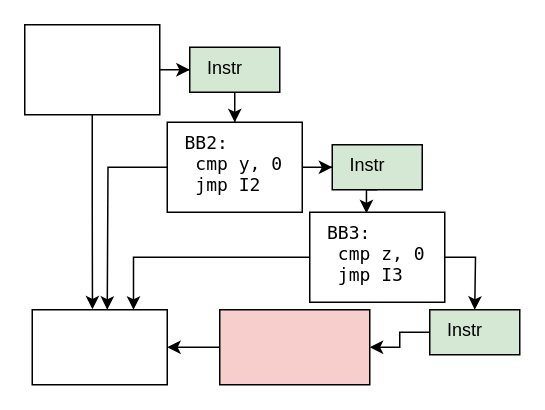
This 545x410 diagram has some shape labels left out. Here are the shapes that lost their labels. From the top down, the centre of each, then its label:
point (91, 69): BB1: cmp x, 0 jmp I1
point (99, 346): Ret: retn
point (294, 346): BB4 #Bad Code
